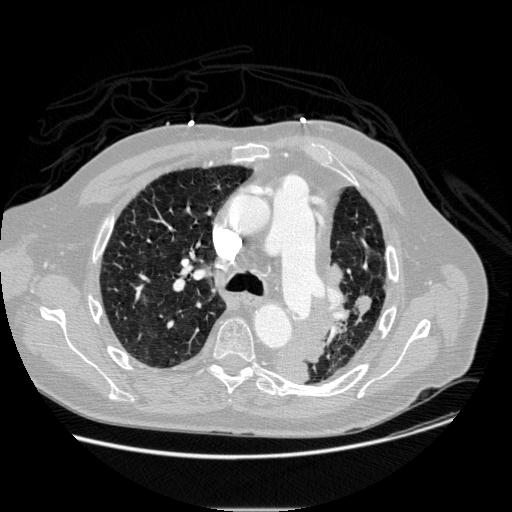nodule: (351, 293, 375, 317)
